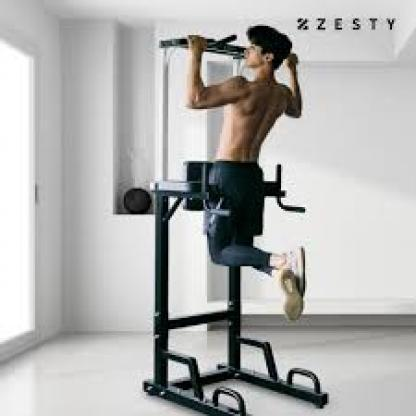chinning dipping: (143, 31, 328, 416)
